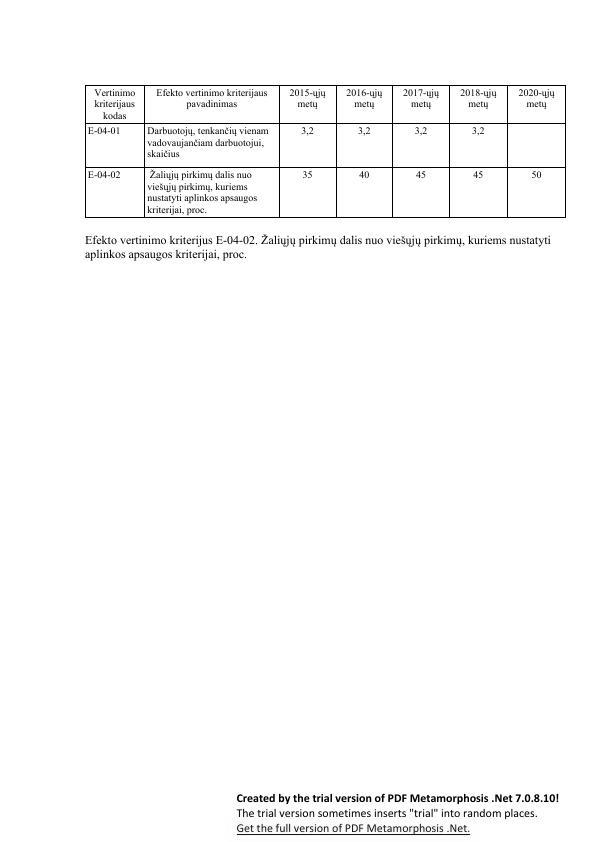table: (80, 80, 568, 220)
text: (225, 781, 567, 837), (80, 230, 556, 265)
